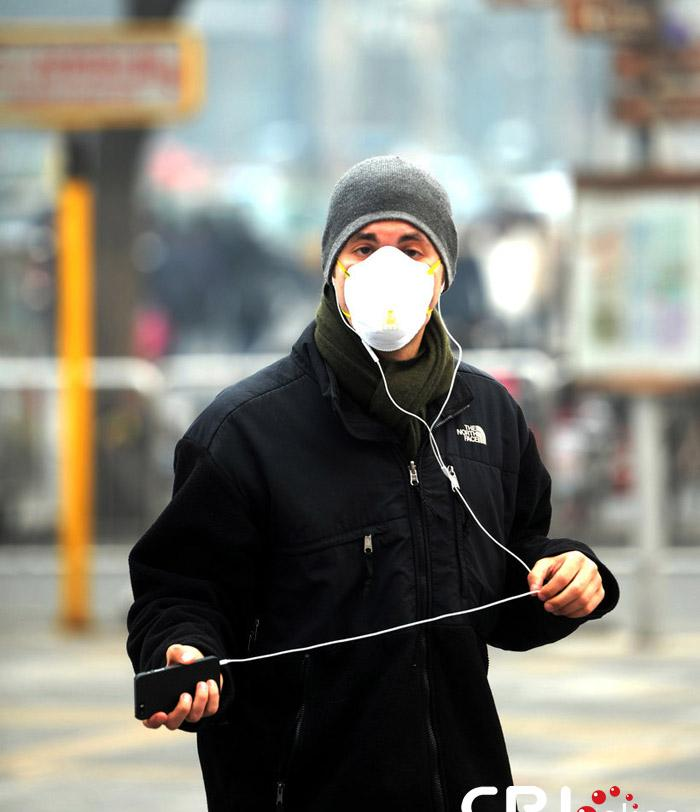face_mask: (338, 230, 437, 349)
